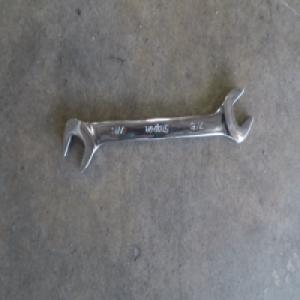Wrench: (66, 87, 254, 175)
